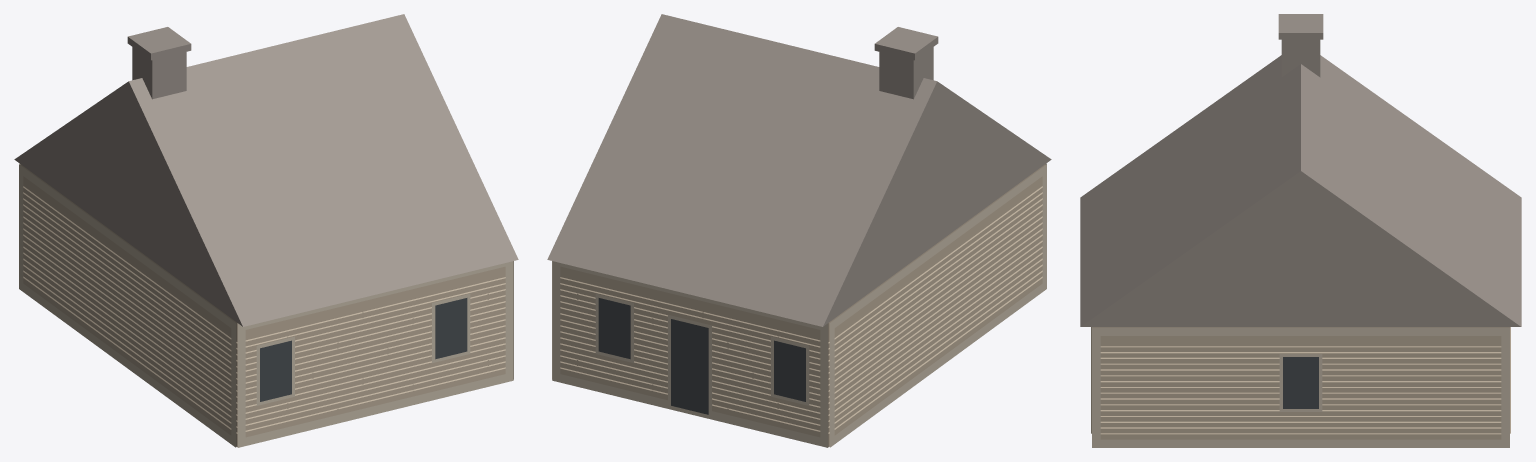
File: heacock_house_monroe__documented_1835.glb
3 views of the same model, side by side, from view 1: azimuth 30°, elevation 25°; view 2: azimuth 150°, elevation 25°; view 3: azimuth 270°, elevation 25° (orthographic). The views are drawn at different scales.
Parts seen in each view (by area): view 1: heacock_house_monroe__documented_1835; view 2: heacock_house_monroe__documented_1835; view 3: heacock_house_monroe__documented_1835.
Boxes of the visible parts, <box> form: heacock_house_monroe__documented_1835: <box>14,14,518,447</box>; heacock_house_monroe__documented_1835: <box>547,14,1051,447</box>; heacock_house_monroe__documented_1835: <box>1080,14,1521,447</box>.
Bounding box in the file's own units: 6.79 × 7.45 × 9.64.
